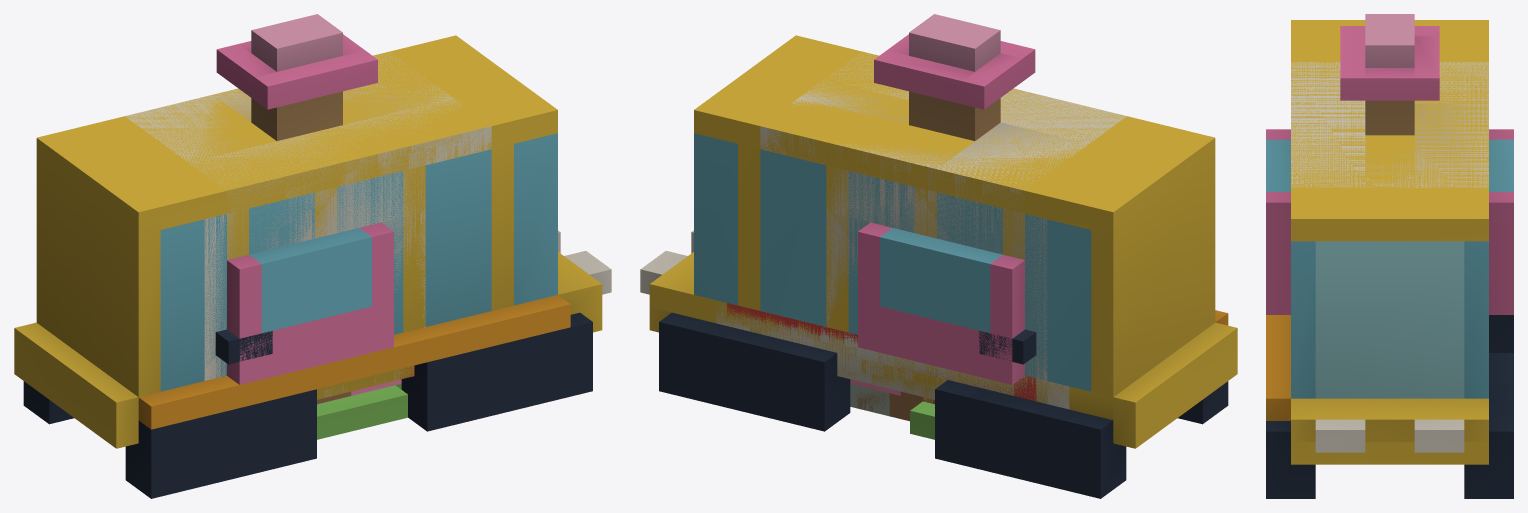
The model's file is detail_props.glb.
3 renders of one model, left to right at view 1: azimuth 30°, elevation 25°; view 2: azimuth 150°, elevation 25°; view 3: azimuth 270°, elevation 25°, orthographic. The views are drawn at different scales.
Visible parts, largest first — view 1: detail_bus_body, detail_ice_cream_van_body, detail_sports_car_body, detail_lily_pad_body; view 2: detail_bus_body, detail_ice_cream_van_body, detail_sports_car_body, detail_stump_body, detail_pebbles_body, detail_lily_pad_body; view 3: detail_bus_body, detail_ice_cream_van_body, detail_sports_car_body.
Boxes of the visible parts, left/top/right/bottom form: detail_bus_body: left=14, top=35, right=611, bottom=498; detail_ice_cream_van_body: left=125, top=14, right=526, bottom=482; detail_sports_car_body: left=215, top=329, right=489, bottom=471; detail_lily_pad_body: left=317, top=383, right=407, bottom=439; detail_bus_body: left=640, top=35, right=1237, bottom=498; detail_ice_cream_van_body: left=716, top=14, right=1126, bottom=482; detail_sports_car_body: left=727, top=303, right=1036, bottom=473; detail_stump_body: left=856, top=389, right=934, bottom=421; detail_pebbles_body: left=850, top=383, right=889, bottom=416; detail_lily_pad_body: left=910, top=401, right=934, bottom=439; detail_bus_body: left=1266, top=20, right=1513, bottom=498; detail_ice_cream_van_body: left=1266, top=14, right=1513, bottom=400; detail_sports_car_body: left=1489, top=315, right=1513, bottom=384.
Size of the model in its own units: 1.92 by 1.33 by 0.8333.
